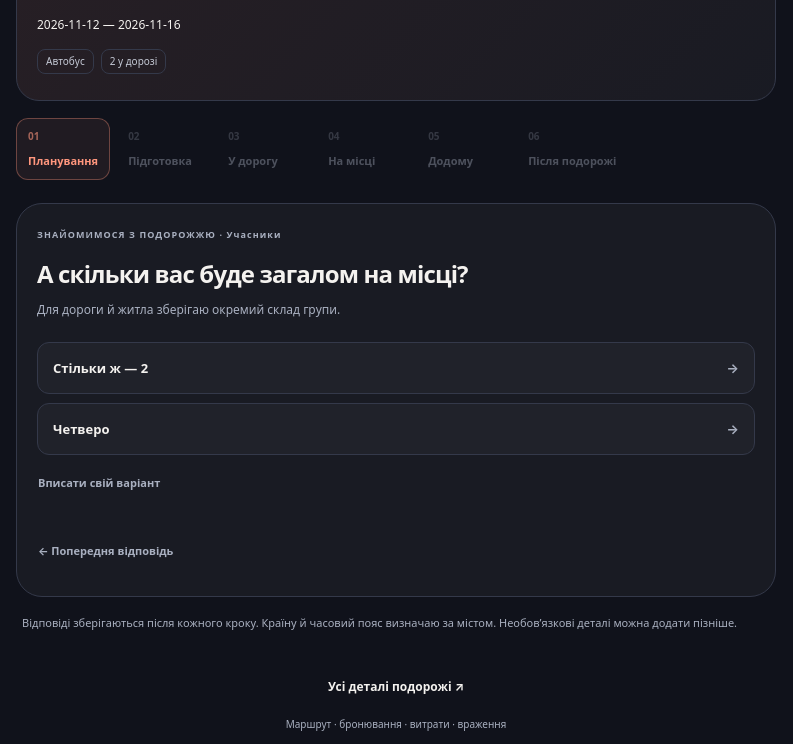
Test: guided travel journey › supports a custom answer and keeps it after an uncertain write until refresh
This screenshot has width=793, height=744.
(page scrolled)
Click the button "Вписати свій варіант" at (99, 482), box [37,460,161,504]
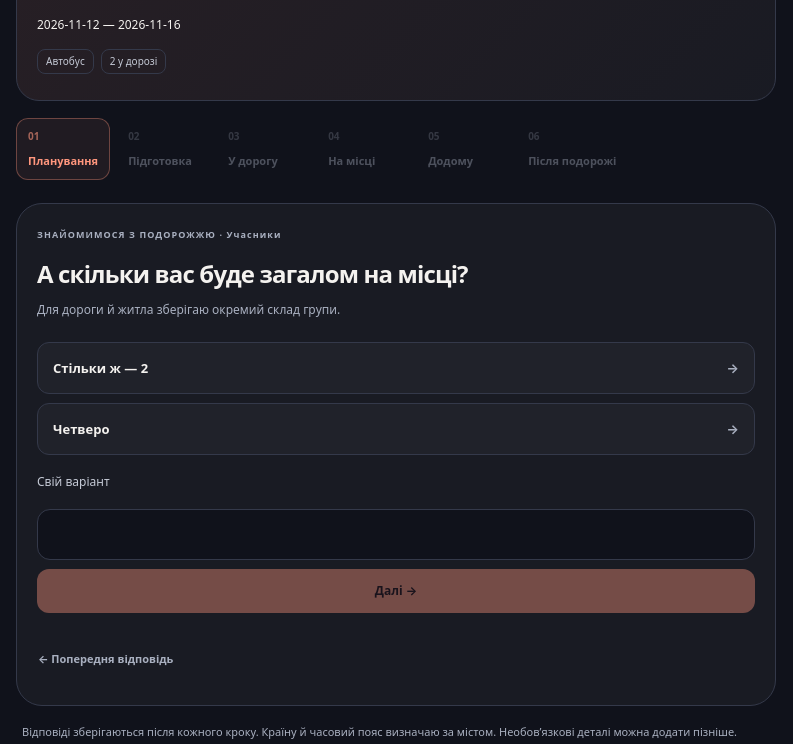
Type "7" into the number field labelled "Свій варіант" at (396, 534), box [37,509,755,560]
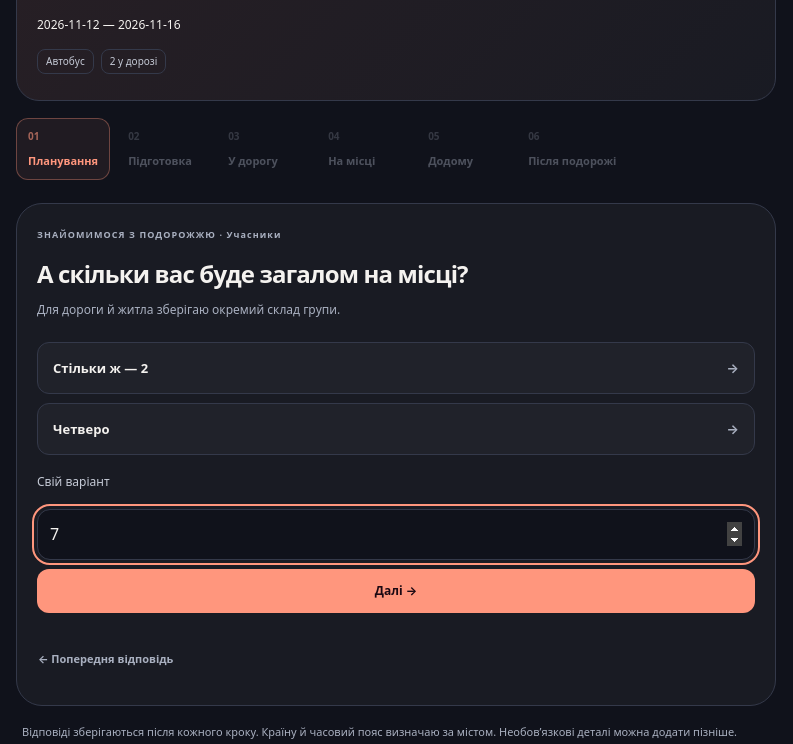
Click the button "Далі →" at (396, 591), box [37,569,755,613]
(page scrolled)
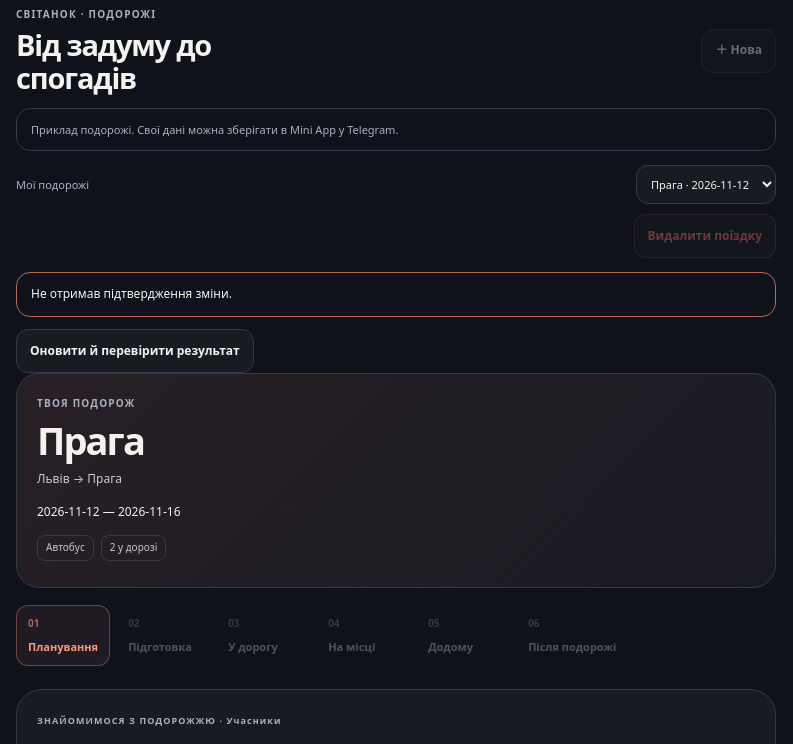
Check: the message shows "Не отримав підтвердження", box [31,285,232,302]
Click the button "Оновити й перевірити результат" at (135, 351), box [16,329,254,373]
(page scrolled)
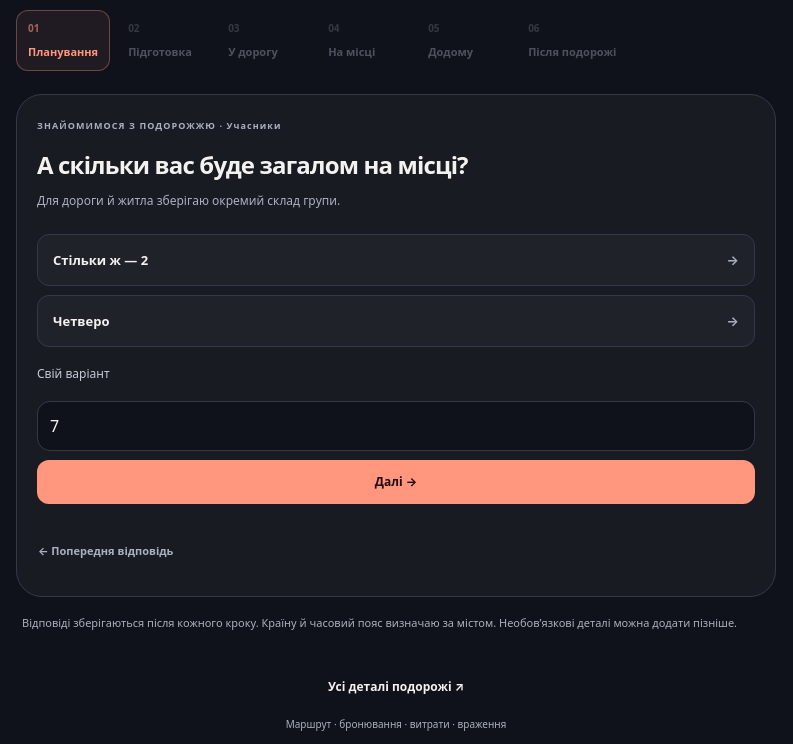
Check: the button "Далі →" is enabled, box [37,460,755,504]
